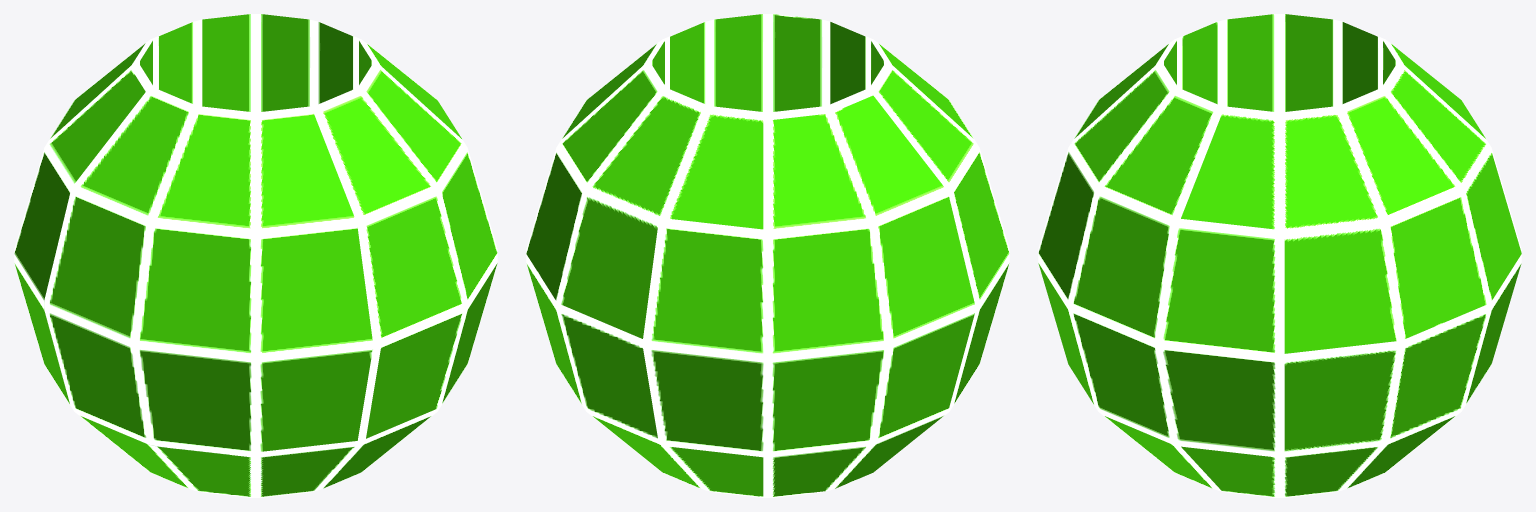
The model's file is kouleGW.fbx.
3 renders of one model, left to right at view 1: azimuth 30°, elevation 25°; view 2: azimuth 150°, elevation 25°; view 3: azimuth 270°, elevation 25°, orthographic.
Parts seen in each view (by area): view 1: koule_Sphere_001; view 2: koule_Sphere_001; view 3: koule_Sphere_001.
Part boxes in pixels (<box>): koule_Sphere_001: <box>14,14,497,497</box>; koule_Sphere_001: <box>526,14,1009,497</box>; koule_Sphere_001: <box>1038,14,1521,497</box>.
Size of the model in its own units: 1.98 by 1.74 by 1.98.
Materials: 1 (1 with a texture image).
